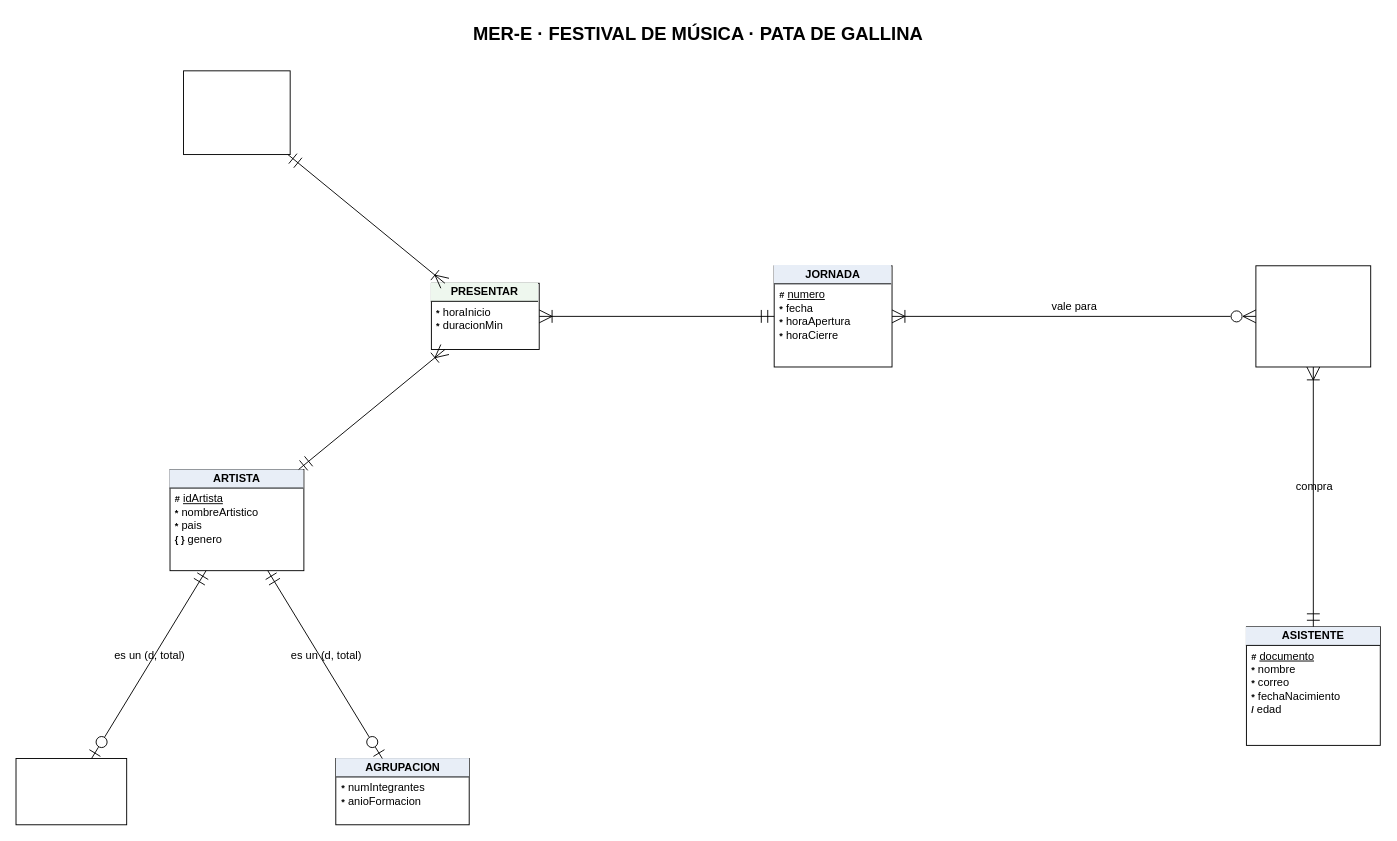
Image size: 1397x841. Some labels were removed from this diagram. Here are the shapes that lost their labels. From the top down, the centre of each, then its label:
point 236,112: ESCENARIO # codigo * nombre * aforo
point 1313,316: BOLETA # codigo * tipo * precio * fechaCompra
point 71,791: SOLISTA * nombreReal * instrumento
